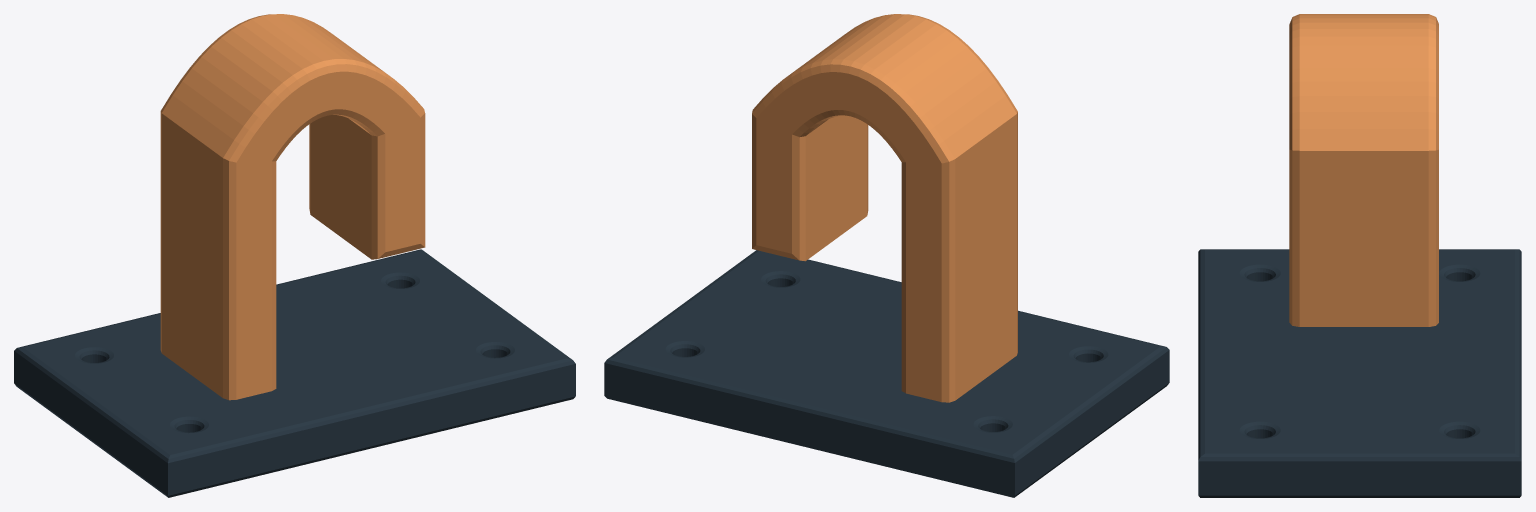
The model's file is clip.glb.
The picture shows the model from 3 angles, left to right: view 1: azimuth 30°, elevation 25°; view 2: azimuth 150°, elevation 25°; view 3: azimuth 270°, elevation 25°; orthographic projection. The views are drawn at different scales.
Parts seen in each view (by area): view 1: clip; view 2: clip; view 3: clip.
Boxes of the visible parts, left/top/right/bottom form: clip: left=14, top=14, right=575, bottom=497; clip: left=604, top=14, right=1169, bottom=497; clip: left=1198, top=14, right=1521, bottom=497.
Size of the model in its own units: 2.88 by 2.39 by 1.88.
